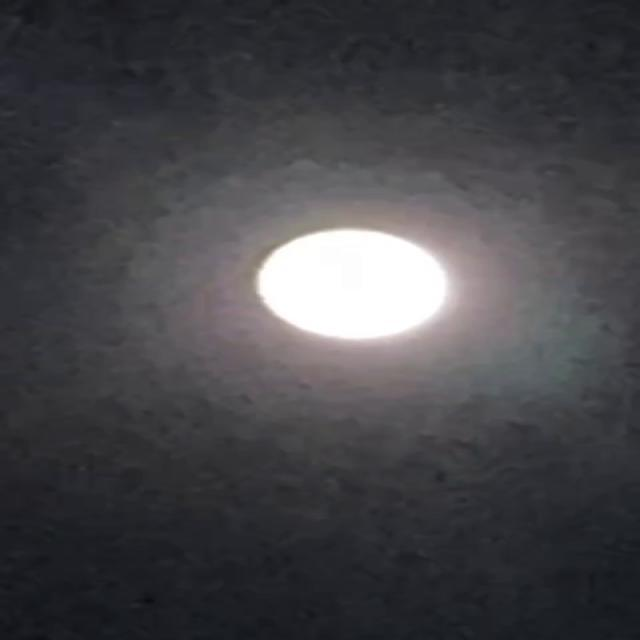moon: (227, 212, 465, 356)
